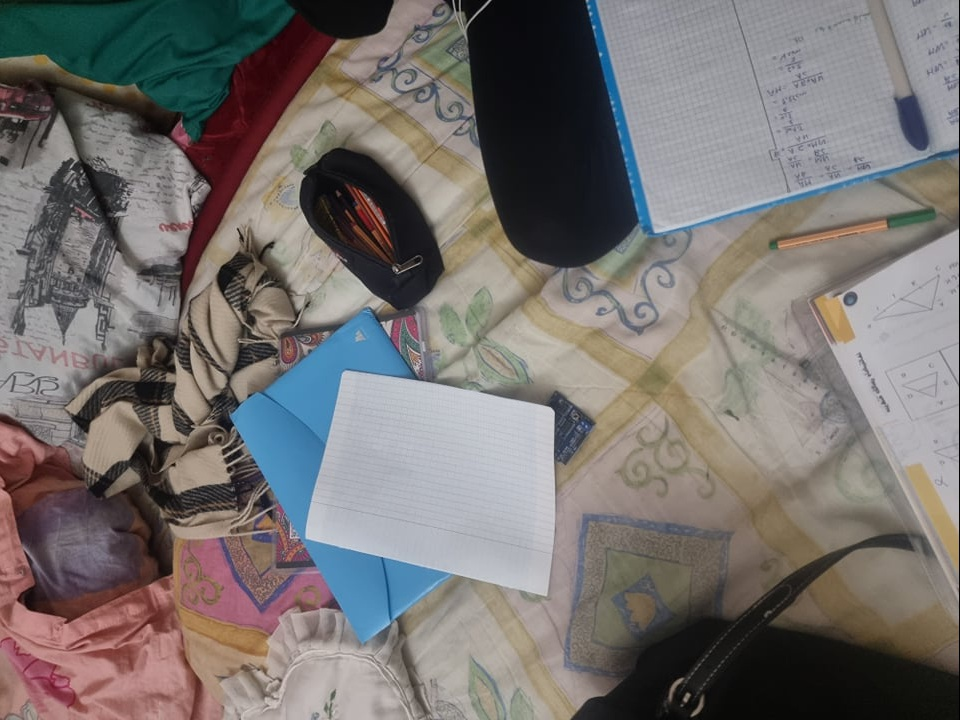5V EXPANSION: (540, 390, 596, 466)
